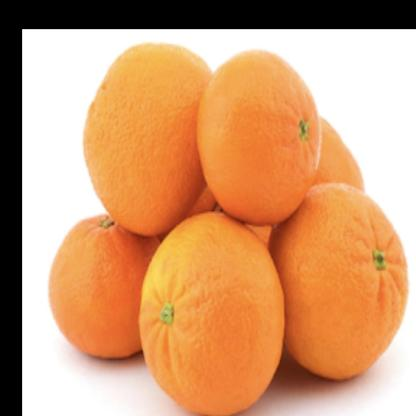fresh: (50, 45, 409, 416)
